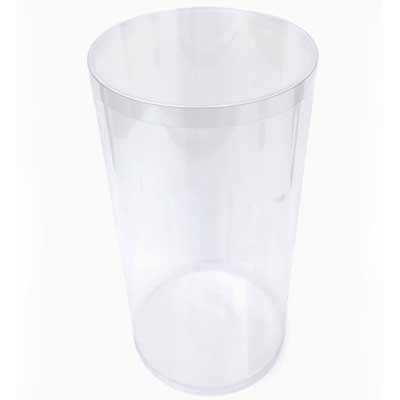PlasticBox: (85, 4, 322, 396)
